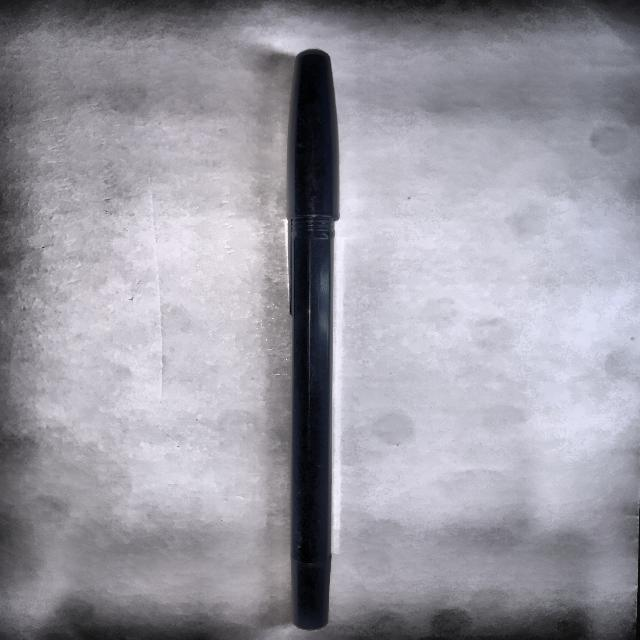Pulpen: (262, 38, 367, 640)
